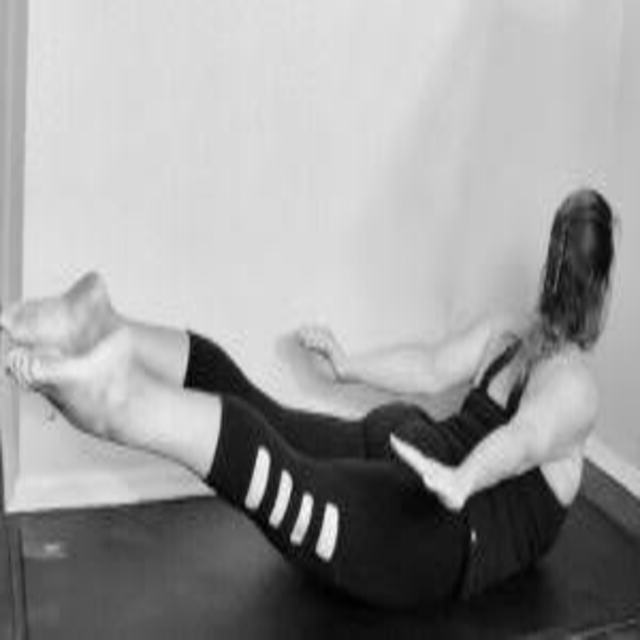Locust_Pose: (1, 192, 614, 595)
